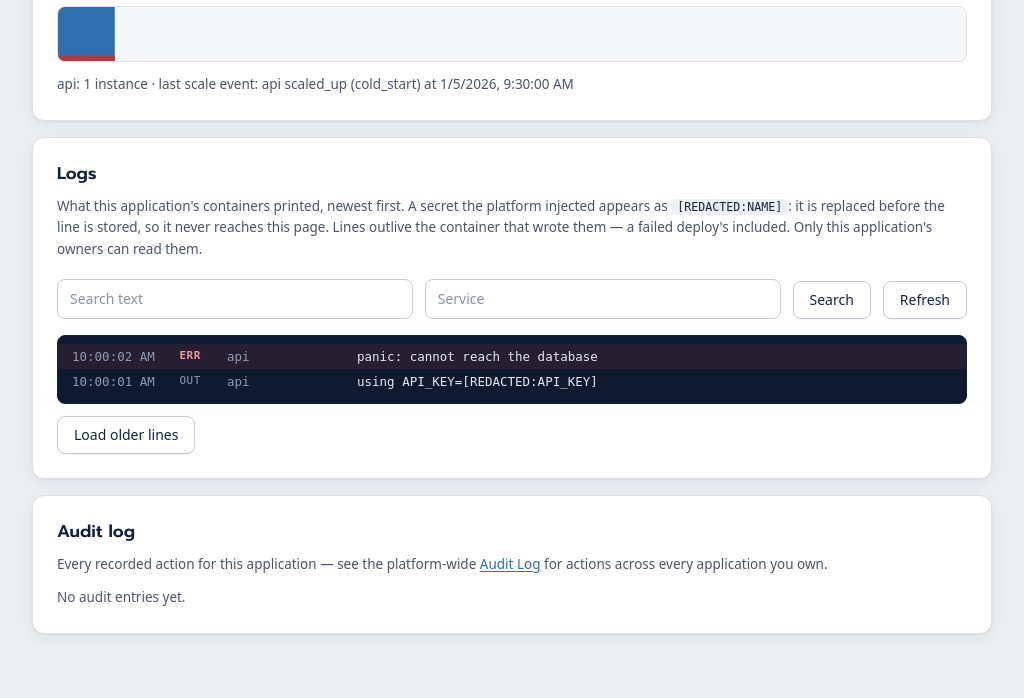
Test: ApplicationDetail — Logs › loads older lines with the platform's own cursor, keeping the ones already on screen
This screenshot has width=1024, height=698.
(page scrolled)
Expected: the text "panic: cannot reach the database" is shown, [357, 349, 598, 364]
Click the button "Load older lines" at x=126, y=435, box [57, 416, 195, 454]
(page scrolled)
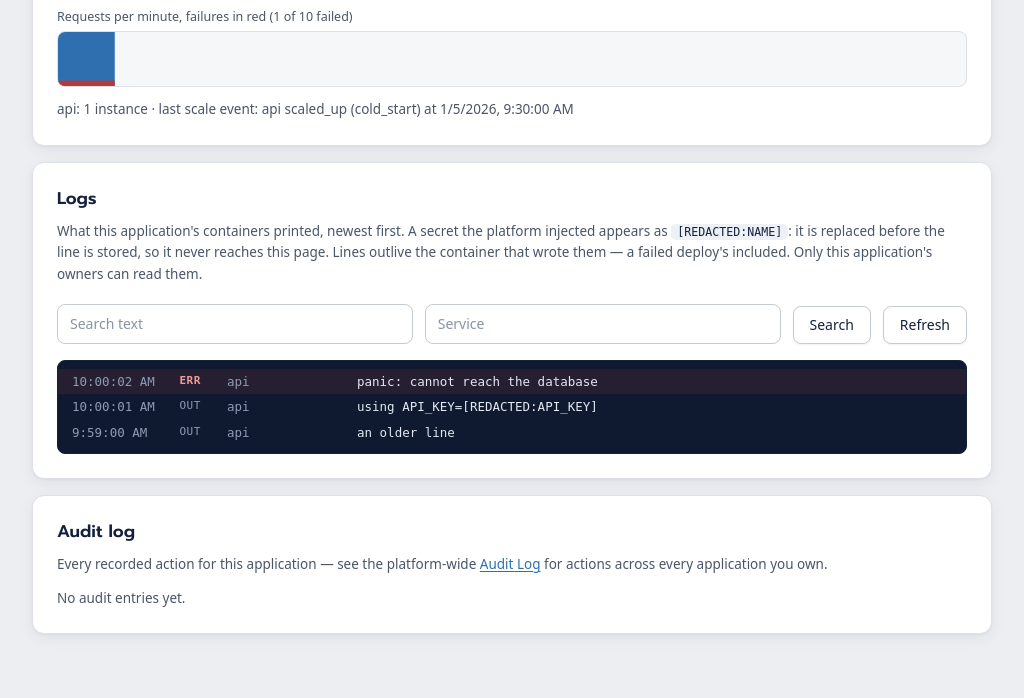
Expected: the text "panic: cannot reach the database" is shown, [357, 374, 598, 389]
Expected: the text "an older line" is shown, [357, 425, 455, 440]
